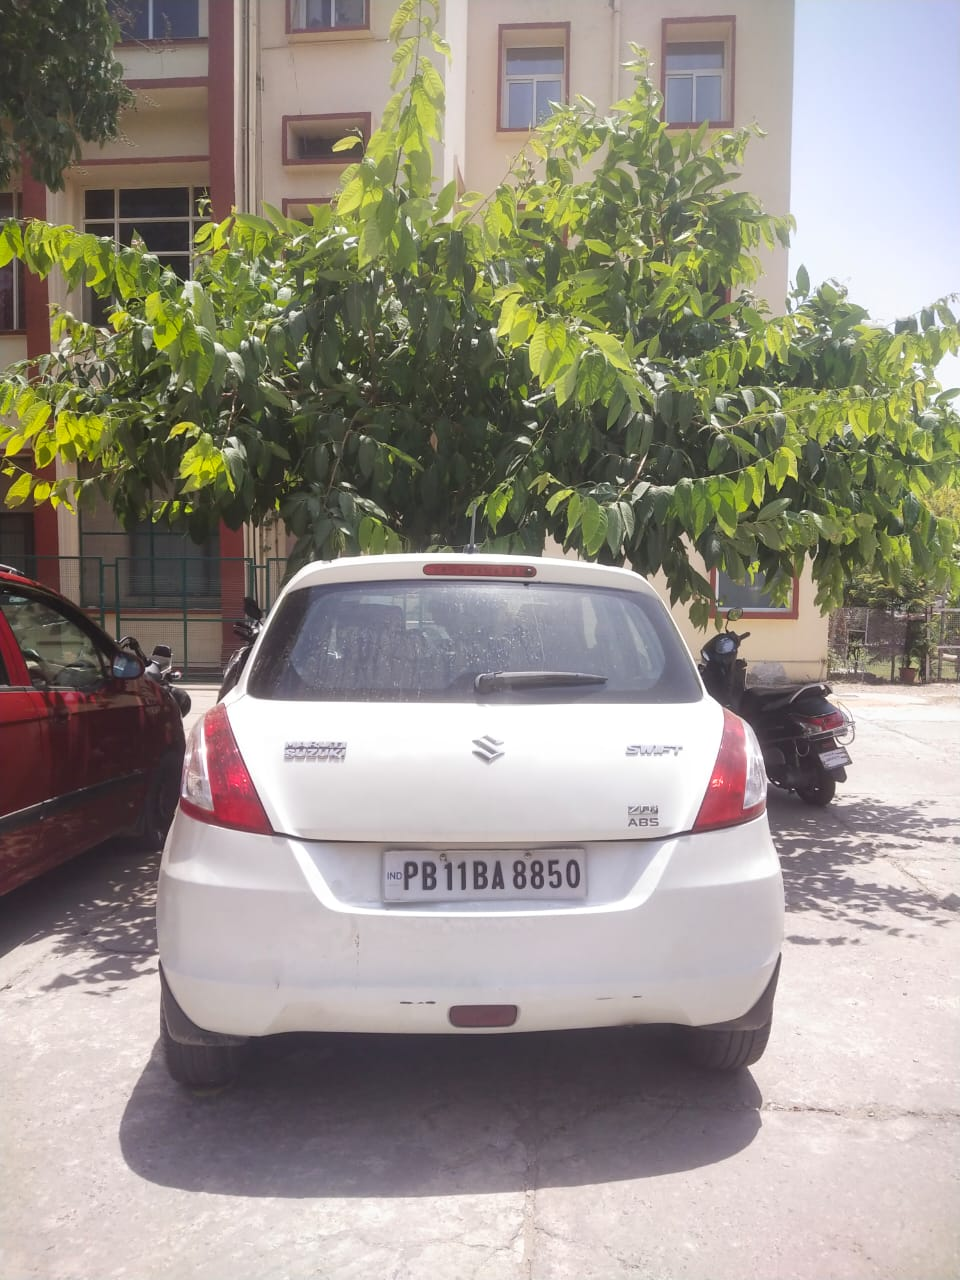license plate: (384, 848, 585, 901)
